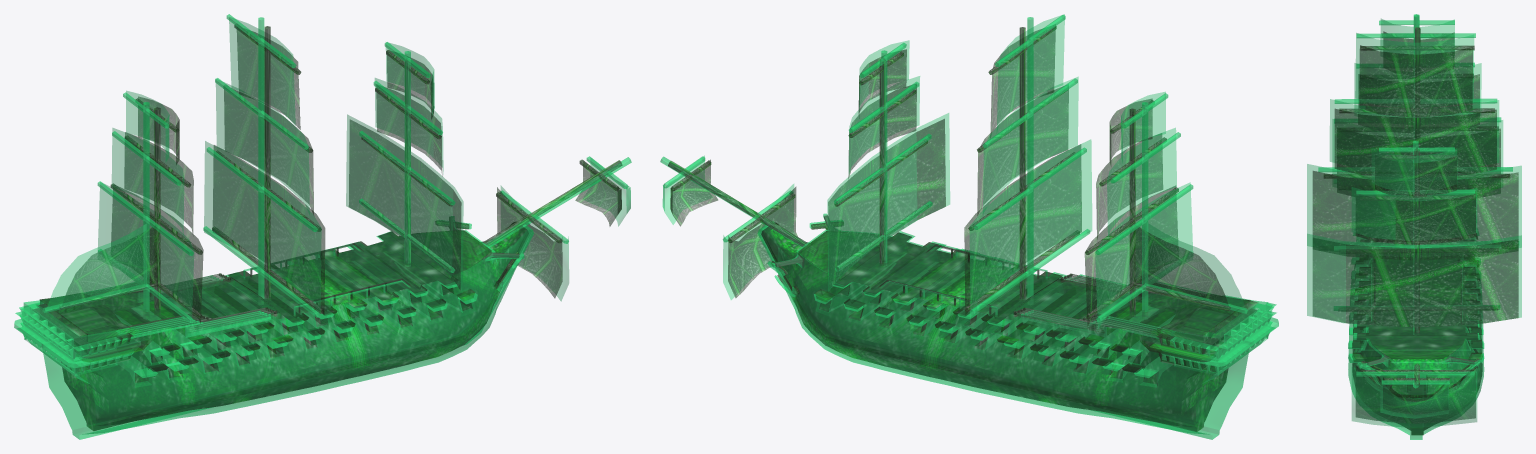
Rendered from Ghostship (2).fbx.
3 renders of one model, left to right at view 1: azimuth 30°, elevation 25°; view 2: azimuth 150°, elevation 25°; view 3: azimuth 270°, elevation 25°, orthographic. The views are drawn at different scales.
Parts seen in each view (by area): view 1: persp2; view 2: persp2; view 3: persp2.
Part boxes in pixels (<box>): persp2: <box>14,14,631,439</box>; persp2: <box>660,14,1278,439</box>; persp2: <box>1307,14,1521,439</box>.
Size of the model in its own units: 116 by 69.99 by 40.51.
Materials: 2 (1 with a texture image).
